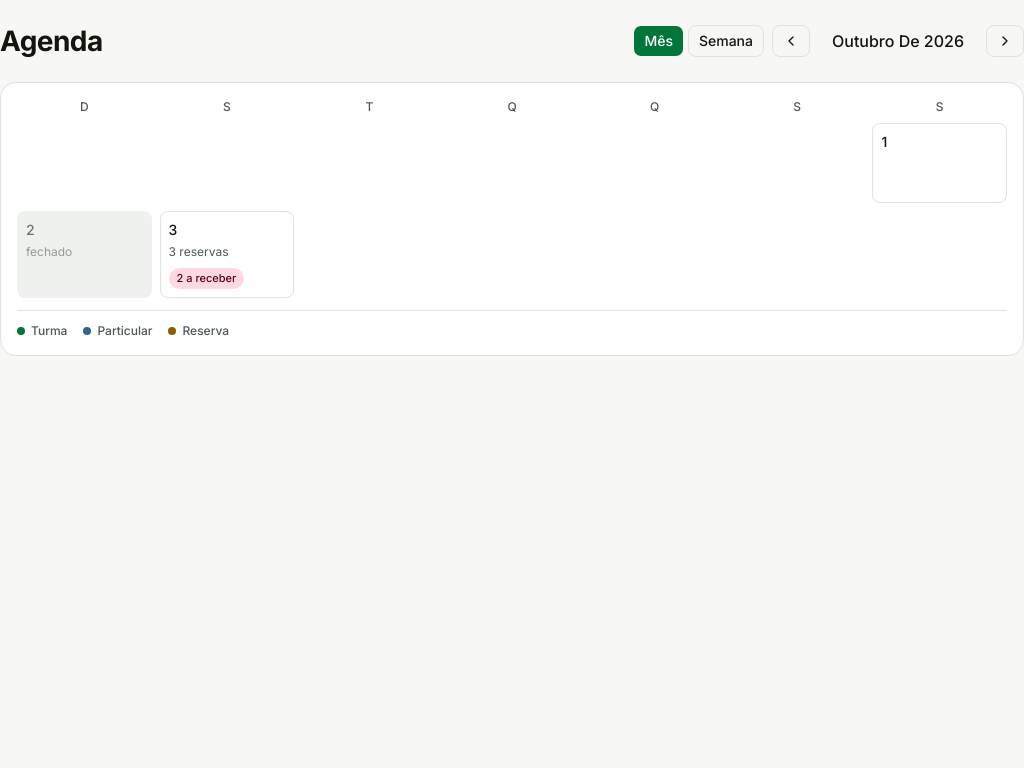
it: AgendaView (SPEC-012) › AC-003: clicar no dia abre o detalhe com quadra, horário e responsável
This screenshot has width=1024, height=768.
Click the text "3 reservas": {"x": 199, "y": 252} [169,244,228,260]
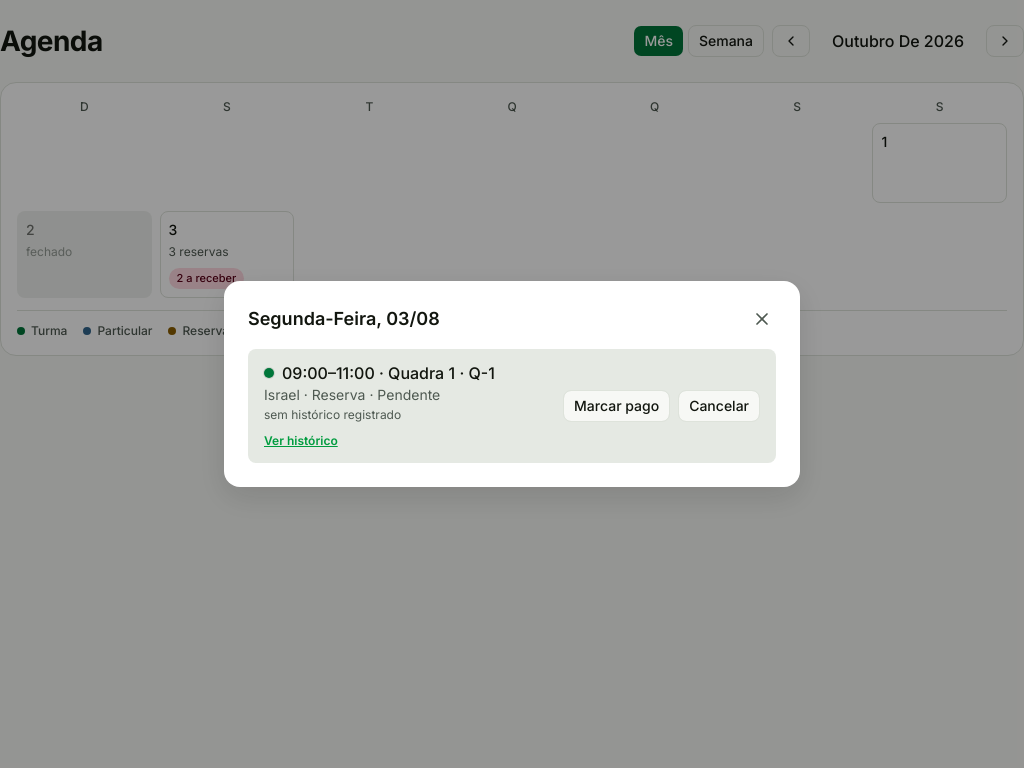
Now the text "09:00–11:00 · Quadra 1 · Q-1" is shown, box [282,361,495,385]
Now the button "Marcar pago" is shown, box [563,390,670,422]
